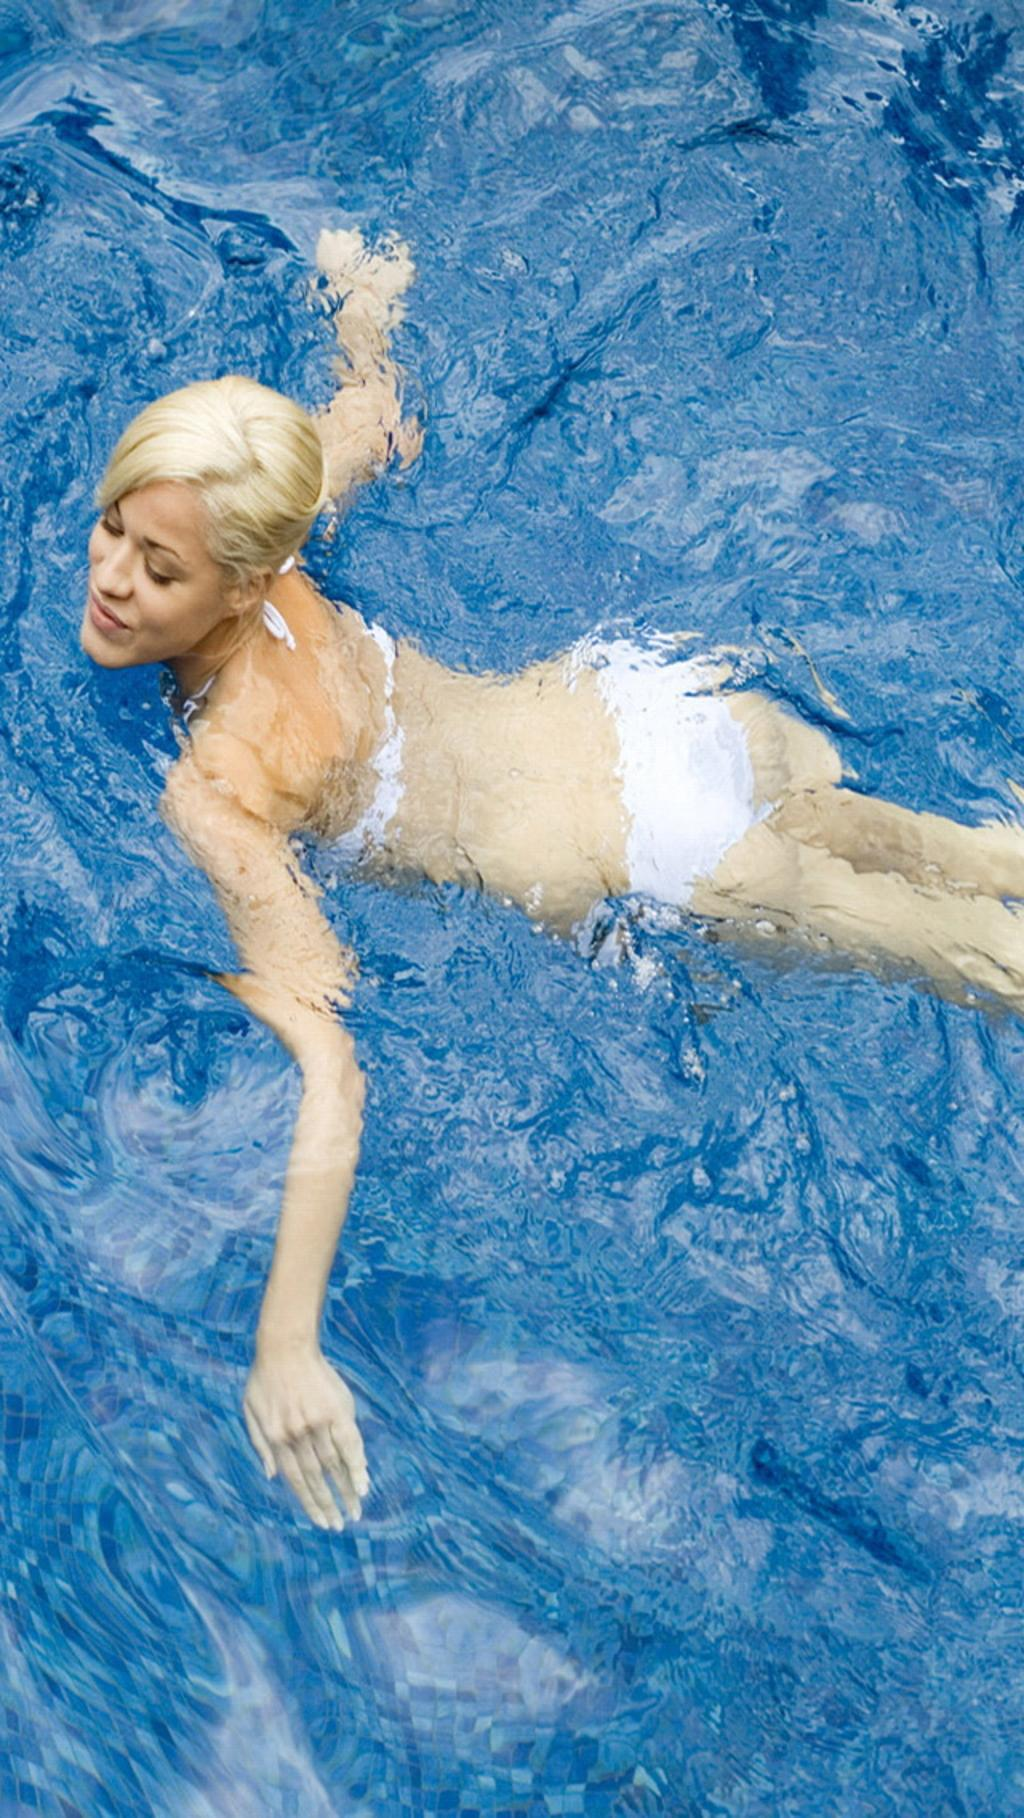face: (79, 499, 218, 659)
